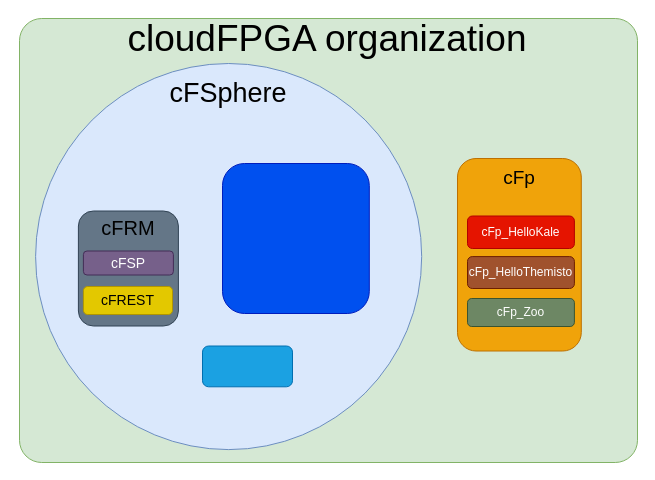
Some shapes in this 655 by 480 pixel diagram are drawn without their labels. Here are the shapes that lost their labels. From the top down, the centre of each, then its label:
At [295,238]: "cFDK".
At [247,366]: "cFCreate".
